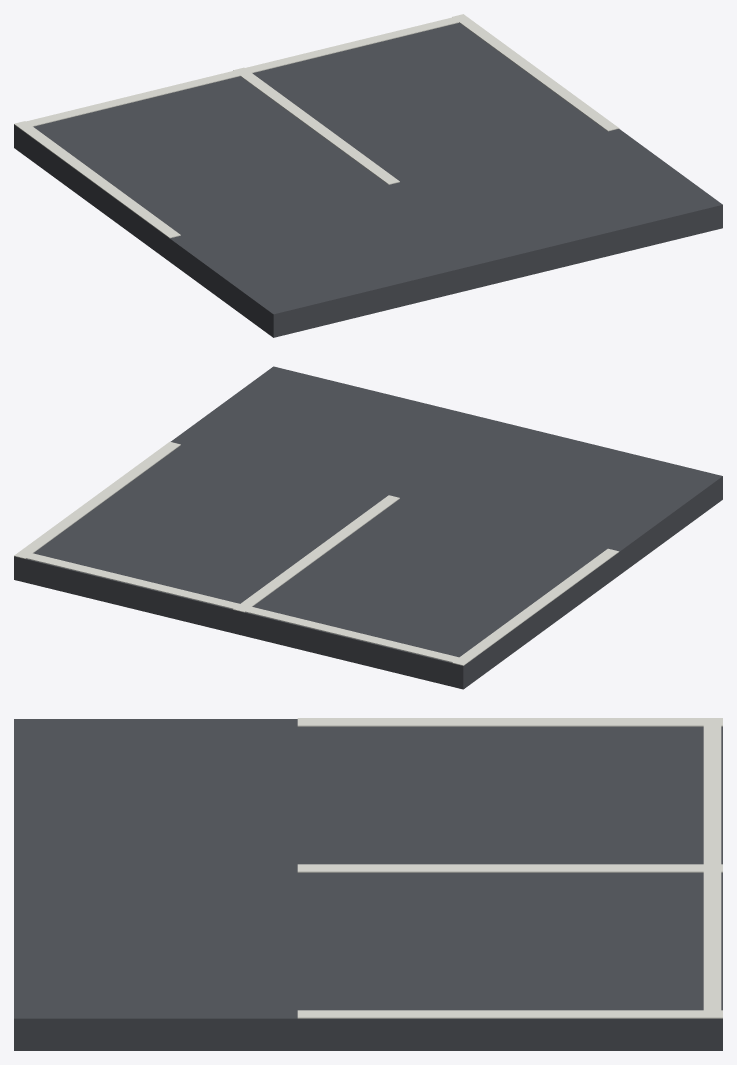
Rendered from Parking_Stalls.glb.
3 views of the same model, one above another, from view 1: azimuth 30°, elevation 25°; view 2: azimuth 150°, elevation 25°; view 3: azimuth 270°, elevation 25° (orthographic). The views are drawn at different scales.
Parts seen in each view (by area): view 1: Parking_Stalls; view 2: Parking_Stalls; view 3: Parking_Stalls.
Boxes of the visible parts, <box> form: Parking_Stalls: <box>14,14,722,337</box>; Parking_Stalls: <box>14,366,722,689</box>; Parking_Stalls: <box>14,718,722,1050</box>.
Bounding box in the file's own units: 4 × 0.206 × 4.
1 material, 1 textured.
